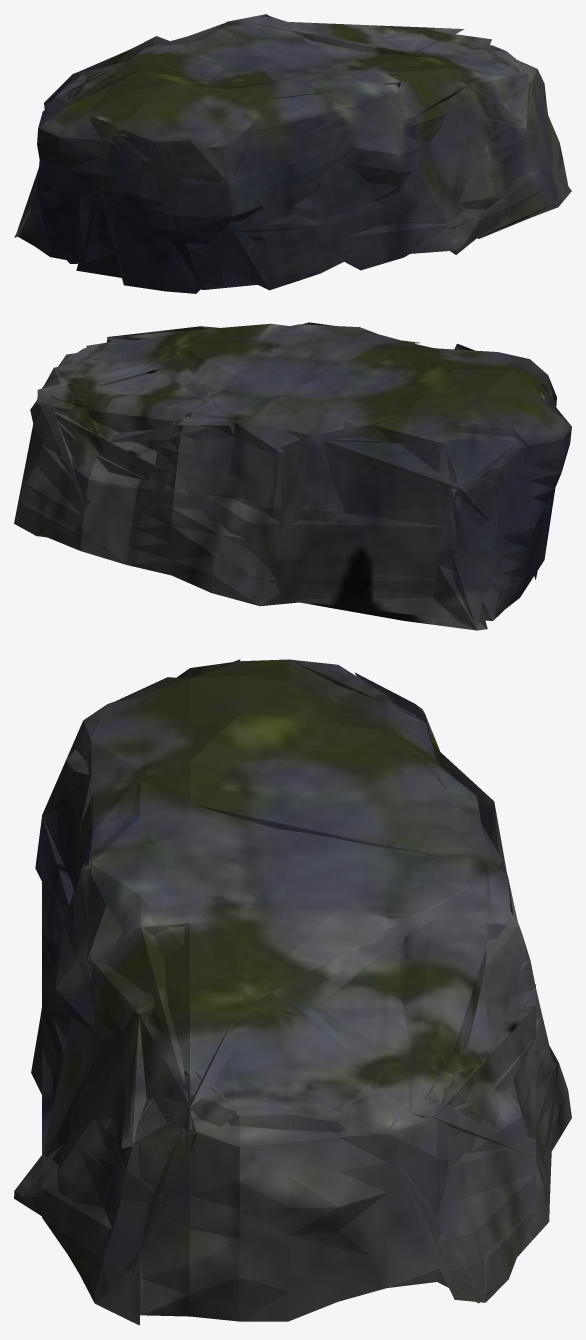
The model's file is rock_cliff_xl_a.glb.
3 renders of one model, top to bottom at view 1: azimuth 30°, elevation 25°; view 2: azimuth 150°, elevation 25°; view 3: azimuth 270°, elevation 25°, orthographic. The views are drawn at different scales.
Parts seen in each view (by area): view 1: cliff_low; view 2: cliff_low; view 3: cliff_low.
Boxes of the visible parts, <box> form: cliff_low: <box>14,14,571,293</box>; cliff_low: <box>14,322,571,630</box>; cliff_low: <box>14,659,571,1325</box>.
Bounding box in the file's own units: 3.81 × 1.3 × 2.16.
Materials: 1 (1 with a texture image).
